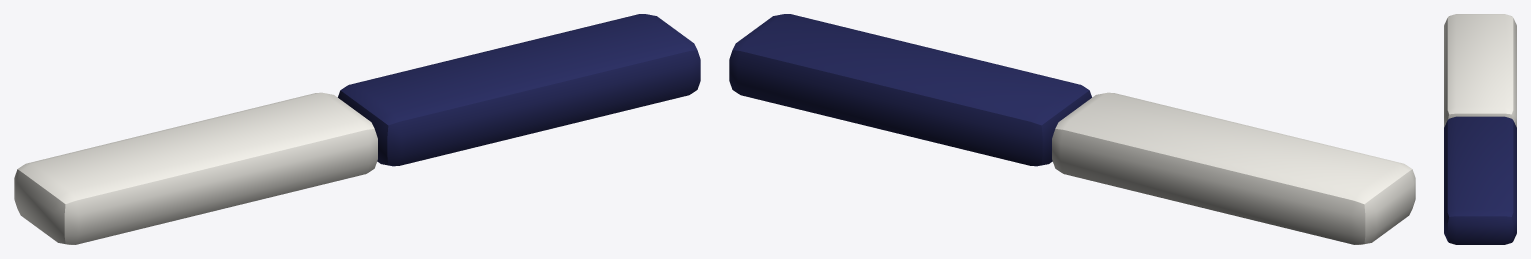
File: kerb.glb
The picture shows the model from 3 angles, left to right: view 1: azimuth 30°, elevation 25°; view 2: azimuth 150°, elevation 25°; view 3: azimuth 270°, elevation 25°; orthographic projection. The views are drawn at different scales.
Parts seen in each view (by area): view 1: kerb; view 2: kerb; view 3: kerb.
Part boxes in pixels (x1,y1,x2,y2): kerb: [14, 14, 700, 244]; kerb: [729, 14, 1415, 244]; kerb: [1444, 14, 1516, 244].
Bounding box in the file's own units: 2 × 0.16 × 0.3.
